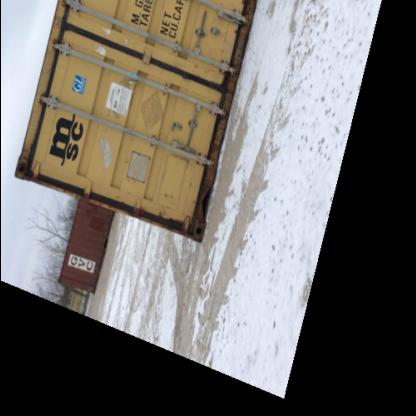Damage: (215, 9, 243, 100), (184, 156, 208, 248), (204, 94, 228, 167), (14, 118, 34, 186)
